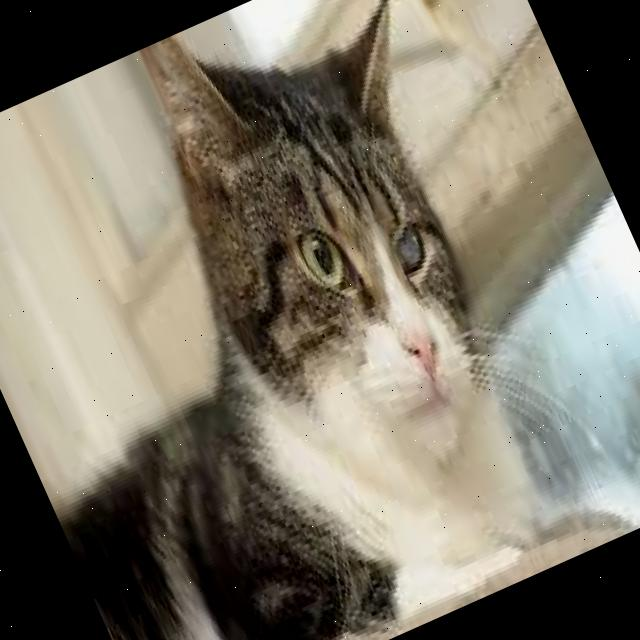cat-eye: (378, 211, 438, 286)
cat-eye-normal: (283, 212, 361, 306)
